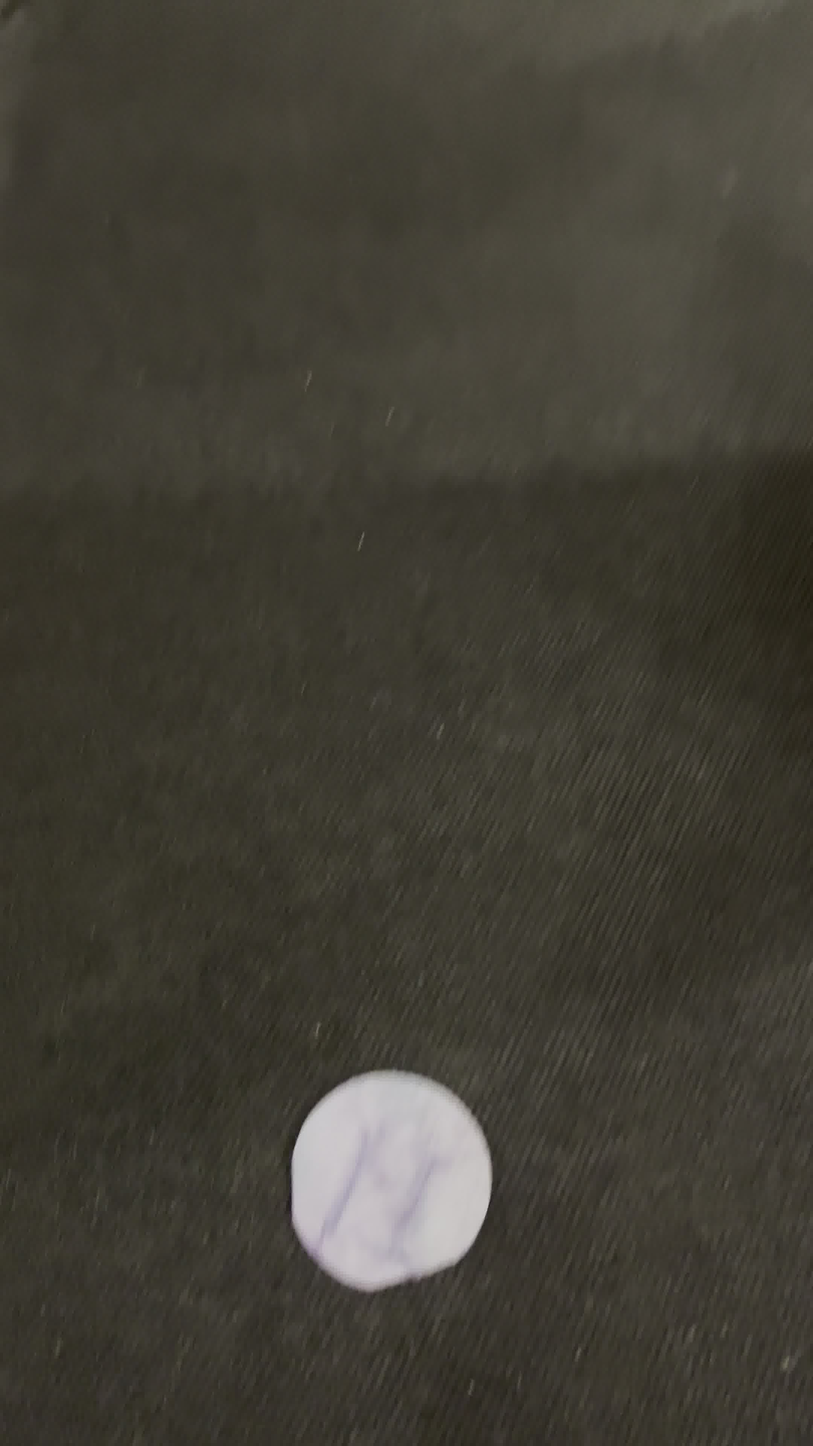Target: (284, 1064, 498, 1296)
